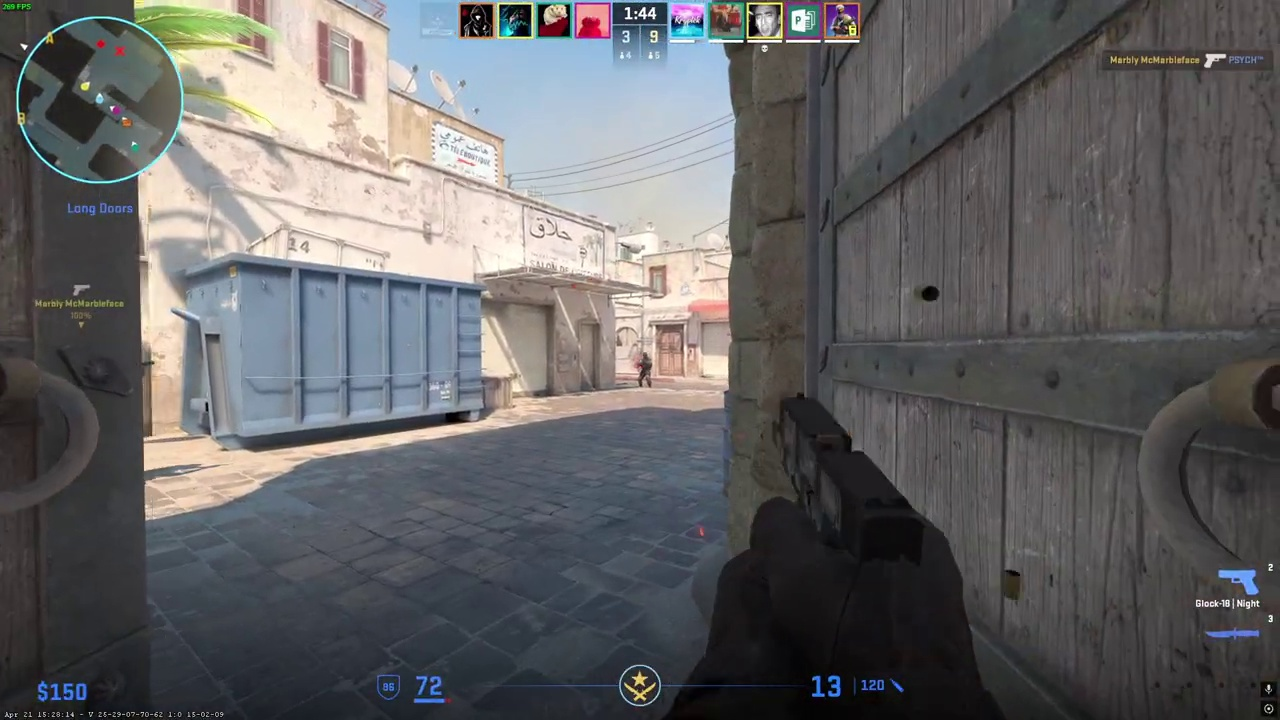CT: (638, 352, 652, 388)
